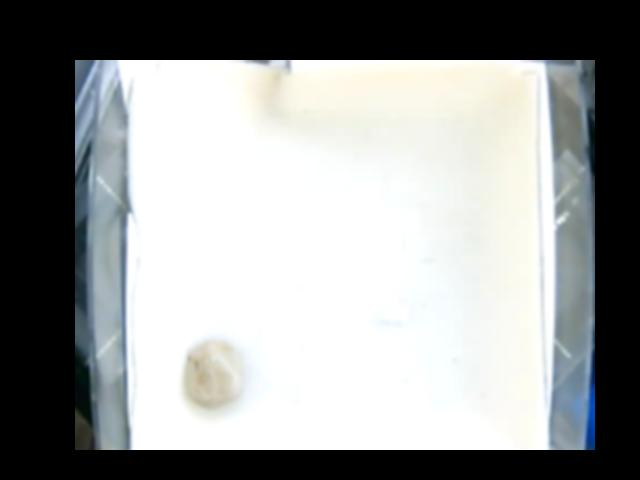Pebble: (185, 338, 243, 410)
